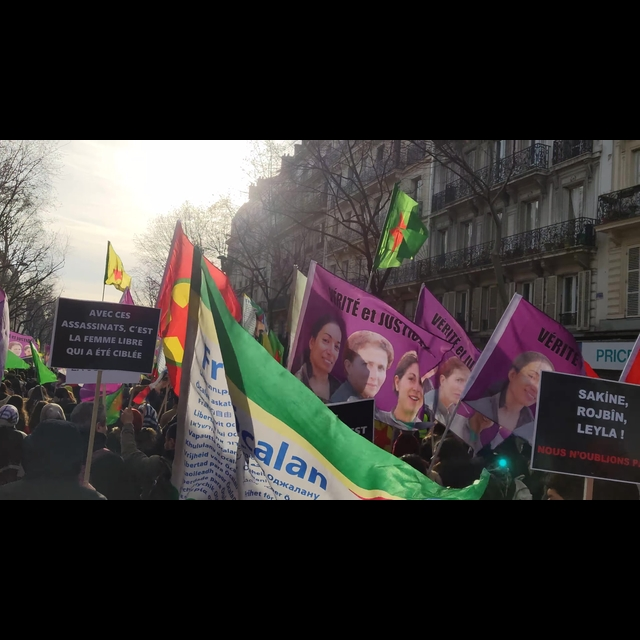YPG: (101, 237, 134, 290)
YPJ: (367, 178, 432, 284)
